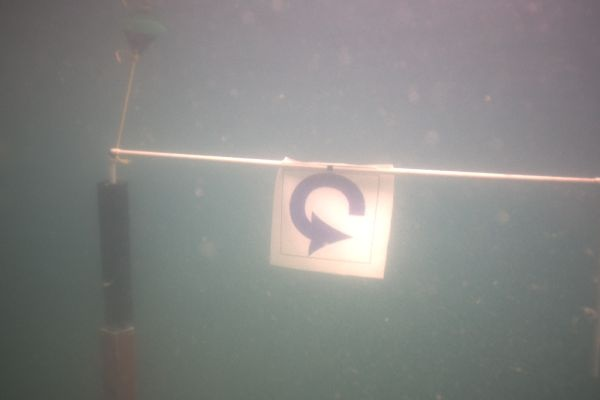gate: (95, 148, 600, 400)
gate_bleue: (268, 162, 394, 280)
